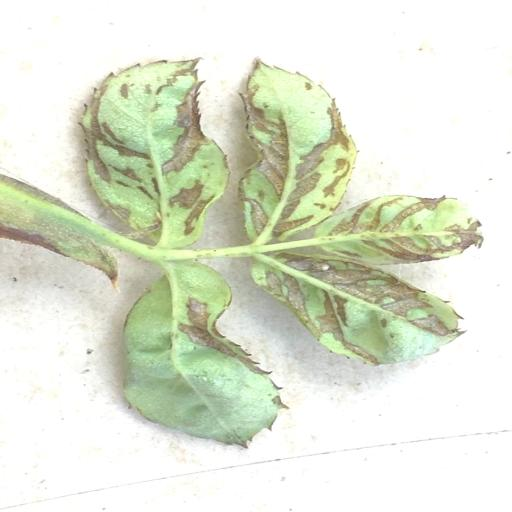thrip: (124, 262, 284, 447), (82, 59, 227, 248), (252, 251, 459, 364), (240, 62, 355, 243), (315, 196, 482, 264)
